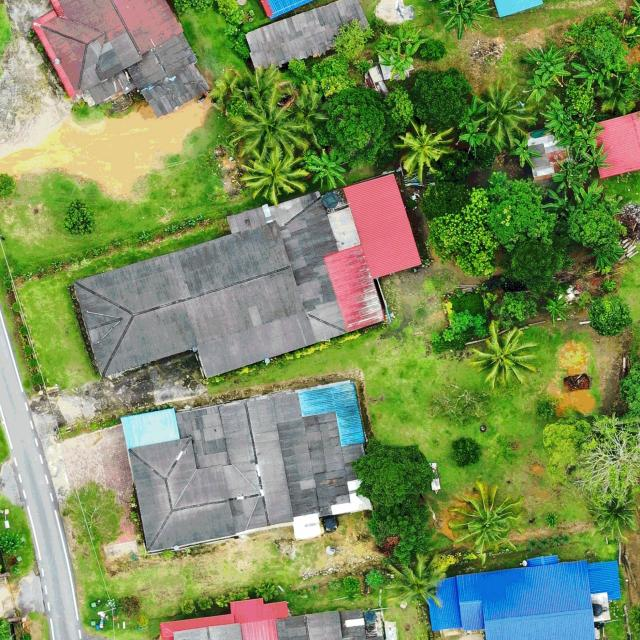Tree: (539, 409, 640, 503), (317, 85, 397, 169), (427, 186, 499, 279), (485, 170, 561, 252), (349, 438, 437, 508), (228, 85, 309, 161), (449, 479, 526, 552), (467, 320, 540, 394), (473, 78, 540, 149), (366, 501, 436, 564), (383, 550, 454, 611), (238, 146, 308, 207), (393, 116, 456, 182), (508, 239, 572, 295), (410, 66, 470, 125), (583, 493, 640, 546), (566, 208, 628, 254), (578, 12, 629, 67), (292, 83, 335, 136), (434, 0, 494, 37), (522, 45, 572, 87), (586, 294, 632, 338), (305, 146, 348, 192), (422, 180, 471, 220), (332, 17, 374, 60), (311, 54, 353, 94), (555, 120, 604, 152), (618, 352, 640, 421), (384, 86, 417, 129), (377, 43, 416, 79), (62, 198, 97, 236), (540, 97, 573, 137), (501, 290, 539, 324), (551, 159, 587, 194), (572, 63, 614, 93), (209, 68, 246, 102), (584, 242, 625, 271), (509, 137, 543, 170), (541, 185, 572, 221), (578, 144, 614, 174), (572, 180, 605, 211), (523, 72, 556, 103), (452, 438, 483, 470), (398, 28, 428, 56), (542, 294, 572, 322), (458, 121, 488, 148), (215, 0, 247, 25), (419, 37, 446, 62), (171, 0, 215, 15), (254, 578, 280, 603), (377, 28, 404, 51), (352, 56, 376, 77), (0, 172, 17, 200), (362, 570, 385, 590), (342, 575, 360, 594), (628, 0, 640, 25)
